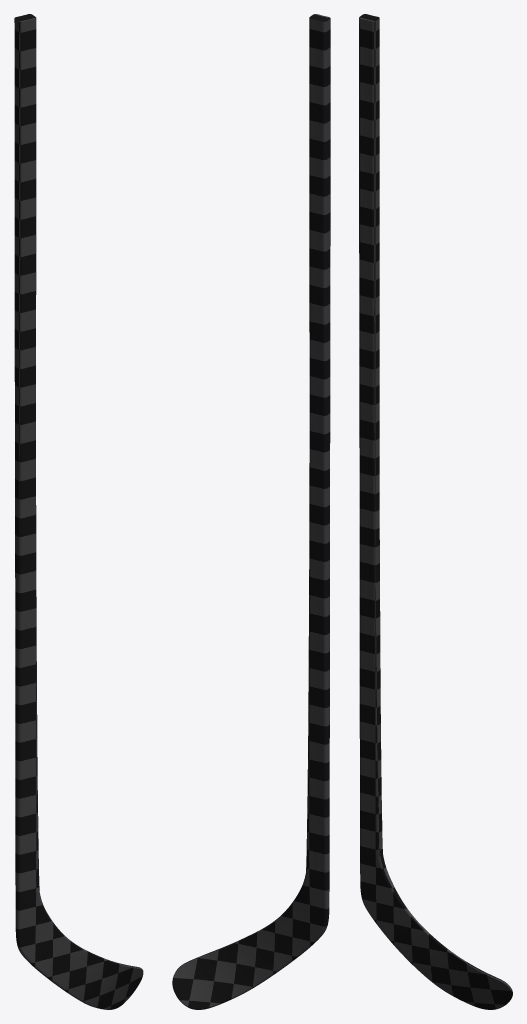
The model's file is P50-SBT.glb.
The picture shows the model from 3 angles, left to right: view 1: azimuth 30°, elevation 25°; view 2: azimuth 150°, elevation 25°; view 3: azimuth 330°, elevation 25°; orthographic projection. The views are drawn at different scales.
Parts seen in each view (by area): view 1: geometry_0; view 2: geometry_0; view 3: geometry_0.
Part boxes in pixels (bbox=[...]): geometry_0: bbox=[14, 14, 143, 1009]; geometry_0: bbox=[172, 14, 330, 1009]; geometry_0: bbox=[359, 14, 512, 1009].
Bounding box in the file's own units: 240 × 1650 × 66.62.
Materials: 1 (1 with a texture image).
